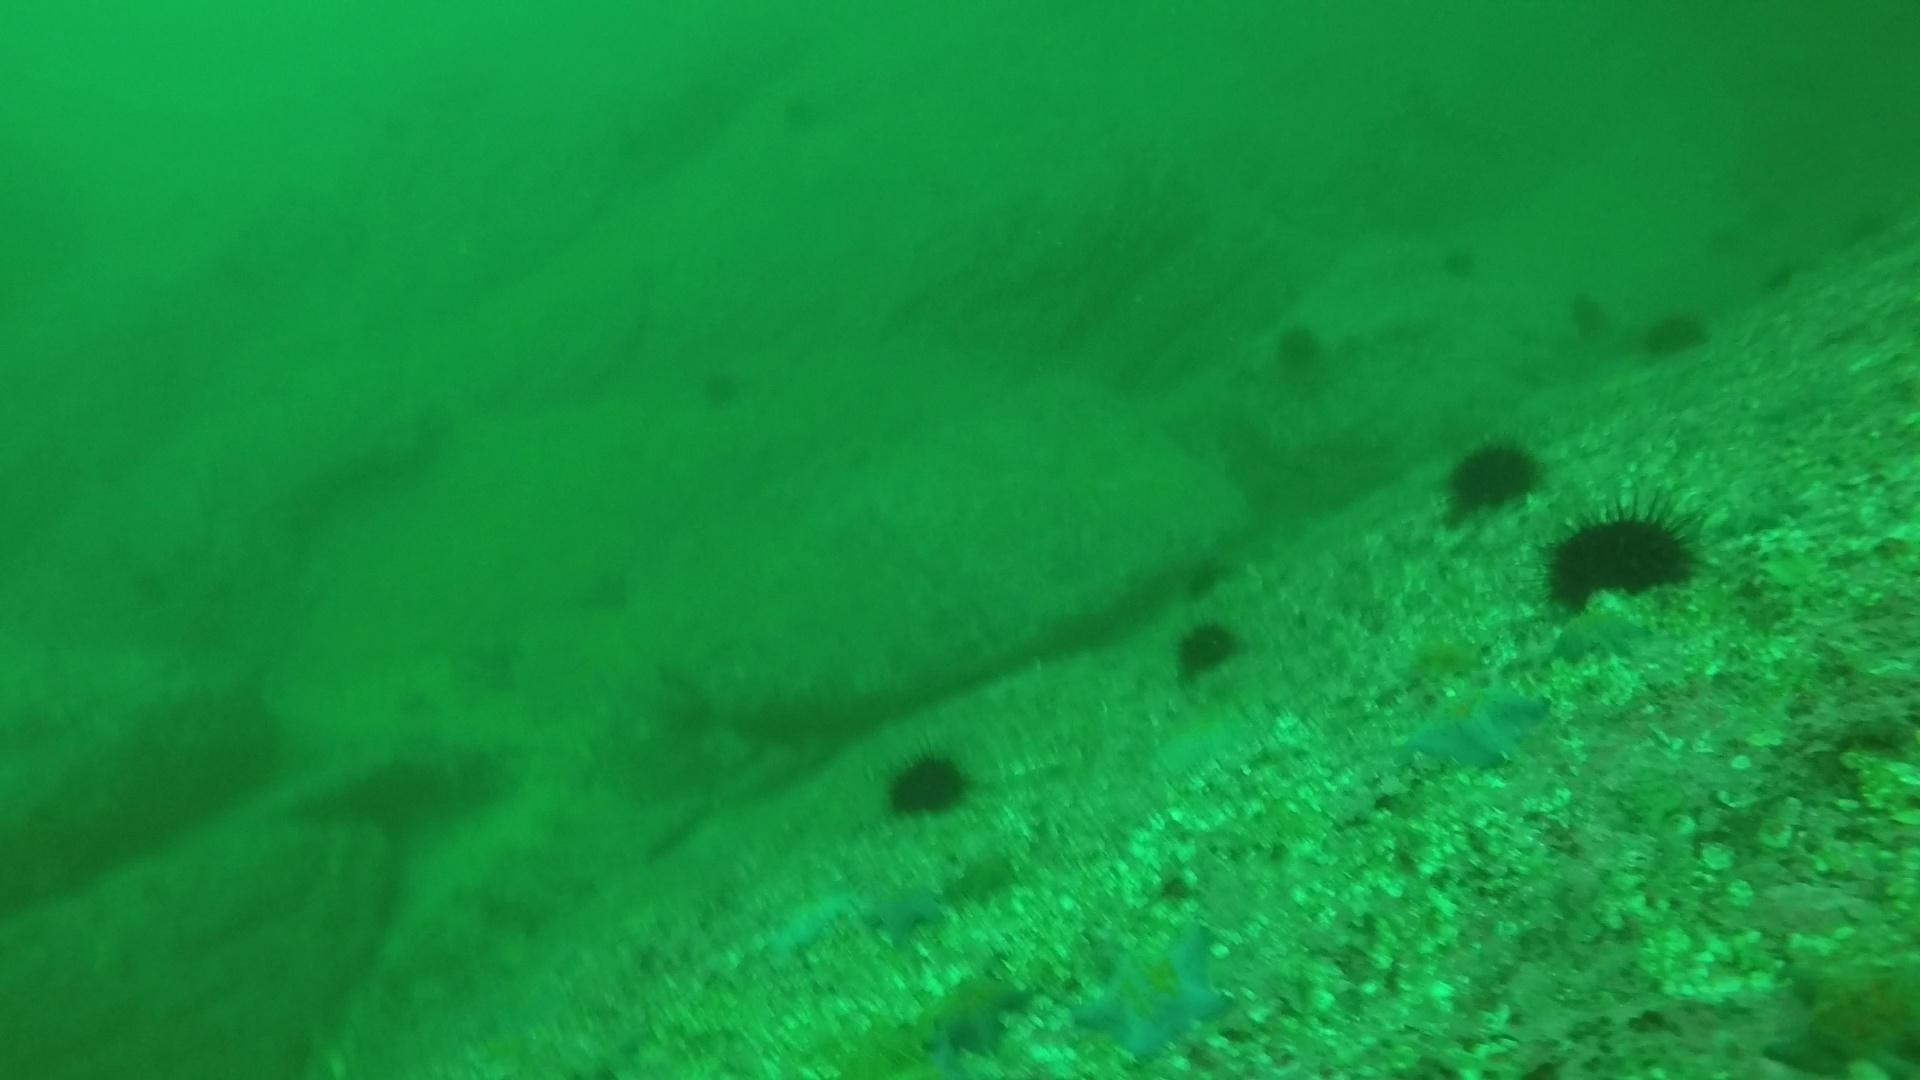echinus: (1539, 497, 1701, 613), (1437, 433, 1547, 522), (880, 742, 977, 824), (1167, 612, 1246, 684), (1639, 303, 1713, 363), (1267, 316, 1332, 381), (1178, 549, 1232, 603), (694, 361, 748, 411), (1563, 286, 1610, 338), (1436, 239, 1482, 284)
starfish: (1069, 919, 1236, 1068), (1759, 943, 1917, 1075), (1393, 674, 1549, 778), (909, 964, 1035, 1065), (1149, 695, 1263, 791), (756, 882, 866, 972), (1545, 603, 1654, 669), (858, 873, 953, 945), (945, 828, 1040, 901)
